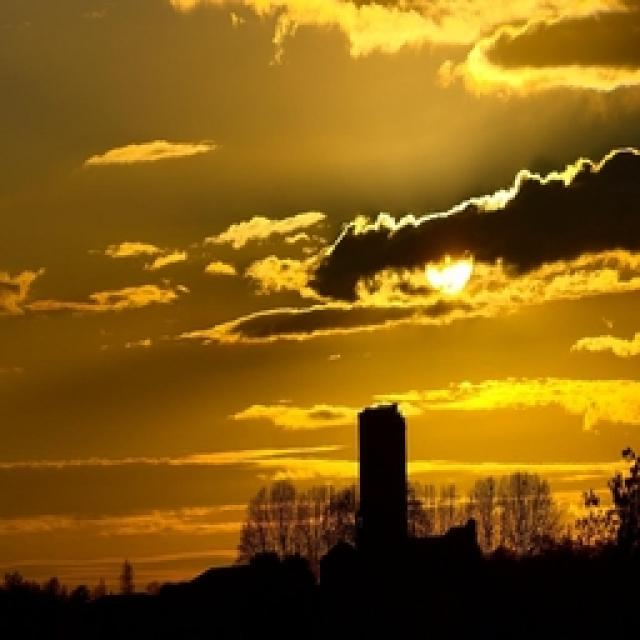Abbey: (350, 388, 425, 573)
